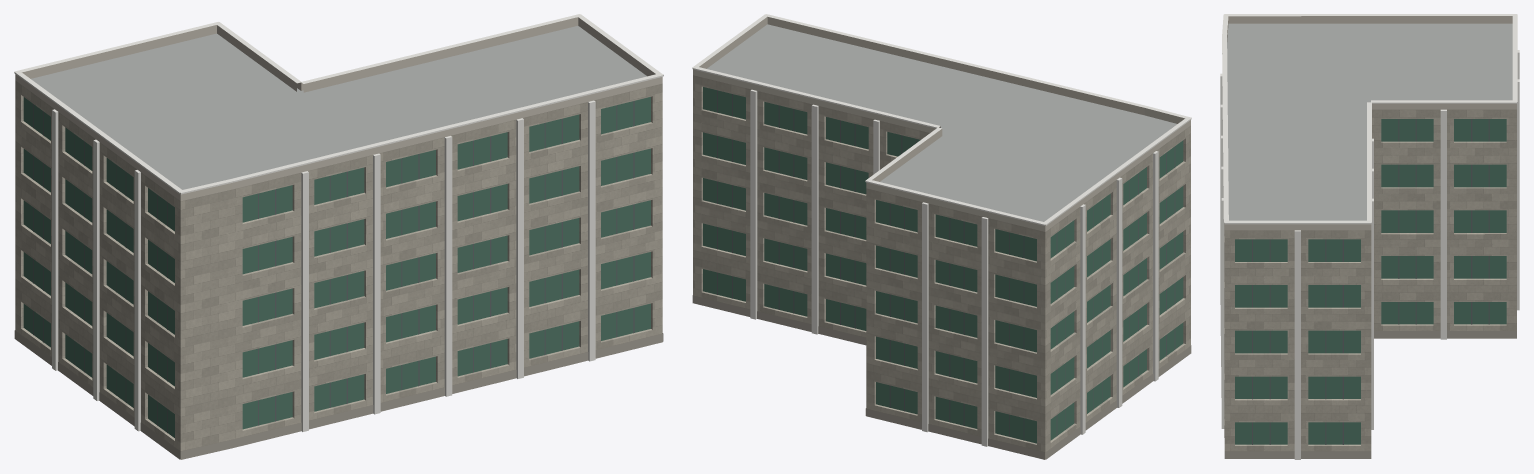
The picture shows the model from 3 angles, left to right: view 1: azimuth 30°, elevation 25°; view 2: azimuth 150°, elevation 25°; view 3: azimuth 270°, elevation 25°; orthographic projection. The views are drawn at different scales.
Parts seen in each view (by area): view 1: scienceTechNorth__wall, scienceTechNorth__glass, scienceTechNorth__roof, scienceTechNorth__trim, scienceTechNorth__parapet, scienceTechNorth__base, scienceTechNorth__frame; view 2: scienceTechNorth__wall, scienceTechNorth__glass, scienceTechNorth__roof, scienceTechNorth__trim, scienceTechNorth__parapet, scienceTechNorth__base, scienceTechNorth__frame; view 3: scienceTechNorth__wall, scienceTechNorth__roof, scienceTechNorth__glass, scienceTechNorth__trim, scienceTechNorth__parapet, scienceTechNorth__base, scienceTechNorth__frame.
Part boxes in pixels (x1,y1,x2,y2): scienceTechNorth__wall: [15, 80, 662, 459]; scienceTechNorth__glass: [23, 97, 650, 437]; scienceTechNorth__roof: [31, 26, 646, 189]; scienceTechNorth__trim: [14, 14, 663, 431]; scienceTechNorth__parapet: [15, 17, 662, 201]; scienceTechNorth__base: [14, 330, 663, 459]; scienceTechNorth__frame: [33, 101, 634, 432]; scienceTechNorth__wall: [693, 75, 1190, 459]; scienceTechNorth__glass: [703, 87, 1183, 443]; scienceTechNorth__roof: [707, 24, 1177, 221]; scienceTechNorth__trim: [692, 14, 1191, 446]; scienceTechNorth__parapet: [693, 16, 1190, 231]; scienceTechNorth__base: [692, 295, 1191, 459]; scienceTechNorth__frame: [717, 90, 1175, 440]; scienceTechNorth__wall: [1224, 109, 1516, 451]; scienceTechNorth__roof: [1227, 23, 1512, 220]; scienceTechNorth__glass: [1235, 119, 1506, 444]; scienceTechNorth__trim: [1220, 14, 1519, 459]; scienceTechNorth__parapet: [1224, 16, 1516, 230]; scienceTechNorth__base: [1224, 331, 1516, 458]; scienceTechNorth__frame: [1252, 119, 1489, 444].
Bounding box in the file's own units: 35.55 × 18.6 × 21.36.
7 materials, 1 textured.
